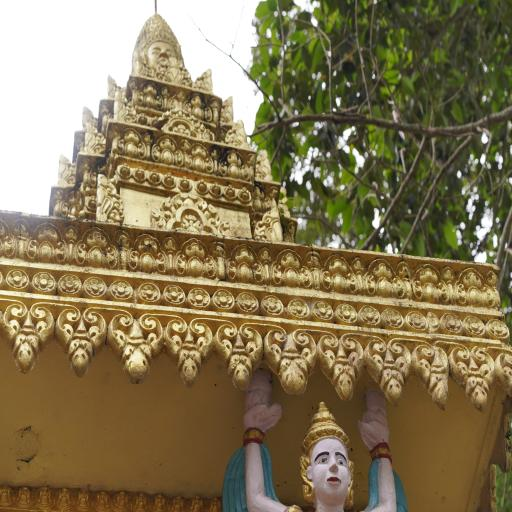hoa: (401, 308, 430, 336), (355, 296, 378, 331), (434, 309, 463, 336), (379, 302, 403, 334), (332, 298, 356, 329), (254, 294, 282, 320), (308, 294, 334, 322), (56, 269, 82, 296), (132, 278, 157, 306), (483, 314, 508, 342), (460, 309, 483, 339), (28, 268, 55, 293), (284, 295, 308, 321), (108, 275, 132, 300), (83, 272, 106, 298), (159, 282, 182, 308), (232, 284, 255, 310), (6, 266, 30, 290), (186, 284, 208, 310), (210, 285, 232, 309)
la: (50, 298, 110, 376), (0, 294, 56, 376), (106, 307, 166, 382), (164, 312, 215, 385), (213, 313, 263, 383), (263, 320, 313, 389), (318, 334, 366, 400), (453, 336, 491, 408), (366, 338, 411, 398), (412, 339, 452, 406), (312, 248, 362, 296), (71, 223, 125, 267), (360, 248, 407, 296), (23, 219, 72, 263), (127, 230, 173, 275), (451, 261, 499, 304), (268, 244, 317, 286), (171, 237, 220, 278), (410, 255, 450, 299), (223, 244, 271, 280), (493, 345, 512, 406), (2, 215, 16, 262)
than: (218, 361, 411, 512), (127, 13, 195, 86), (112, 126, 151, 164), (184, 137, 216, 179), (217, 146, 249, 184), (149, 131, 182, 164), (132, 78, 162, 113), (183, 93, 213, 125)
